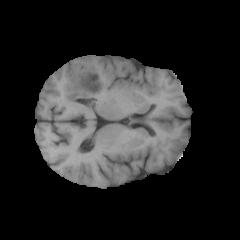glioma: (62, 64, 105, 102)
